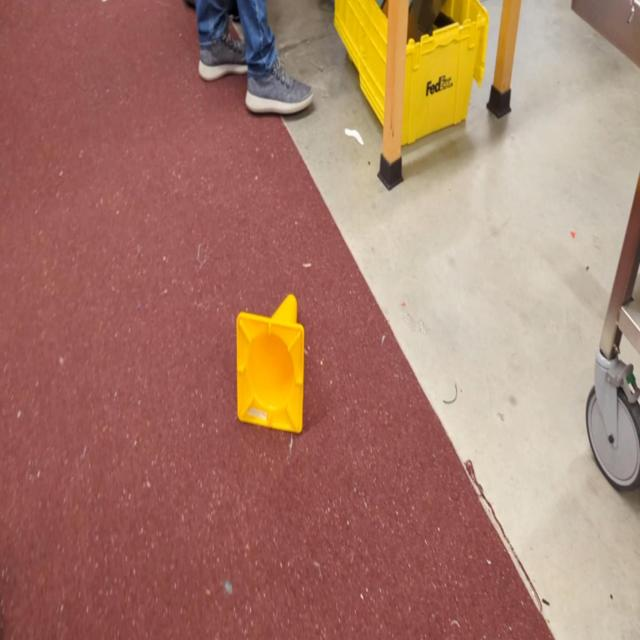frc_cone: (236, 294, 305, 434)
